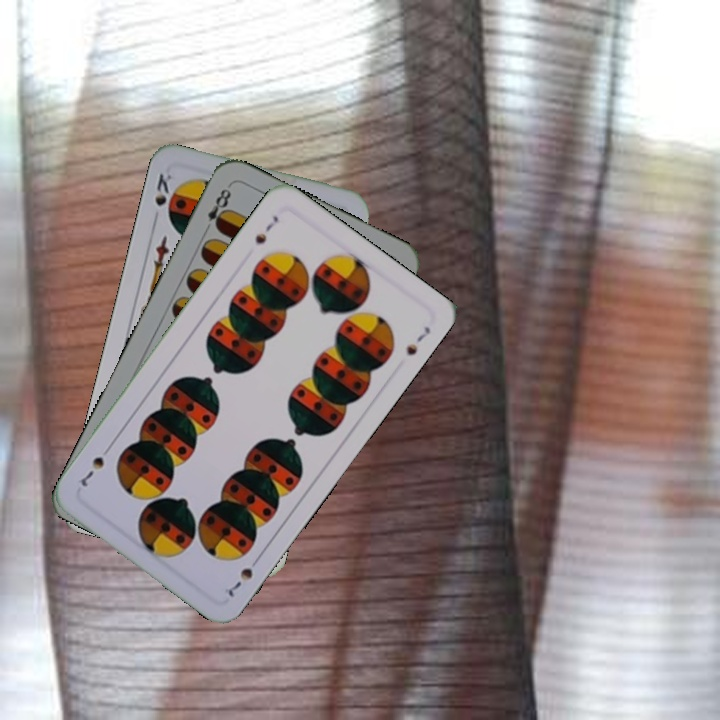E8: (199, 184, 234, 236)
S7: (222, 551, 264, 600), (250, 211, 281, 247)
SK: (150, 169, 178, 209)
